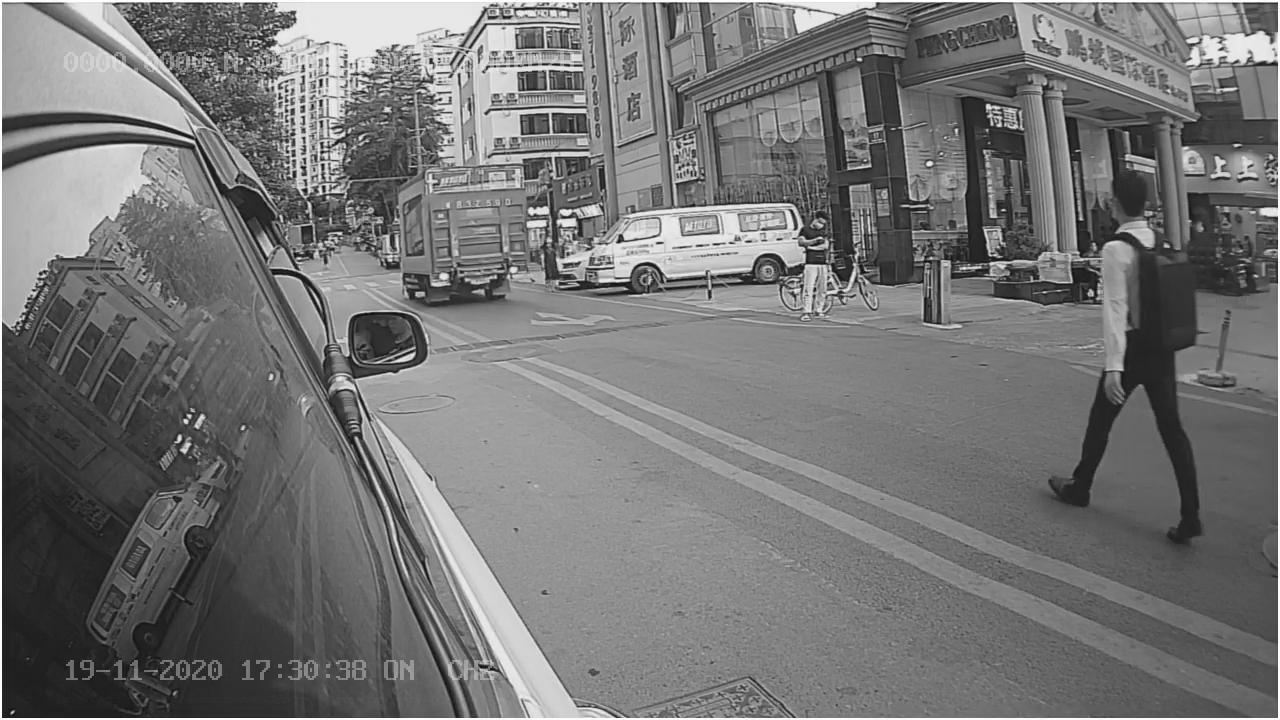person: (1069, 164, 1203, 531)
